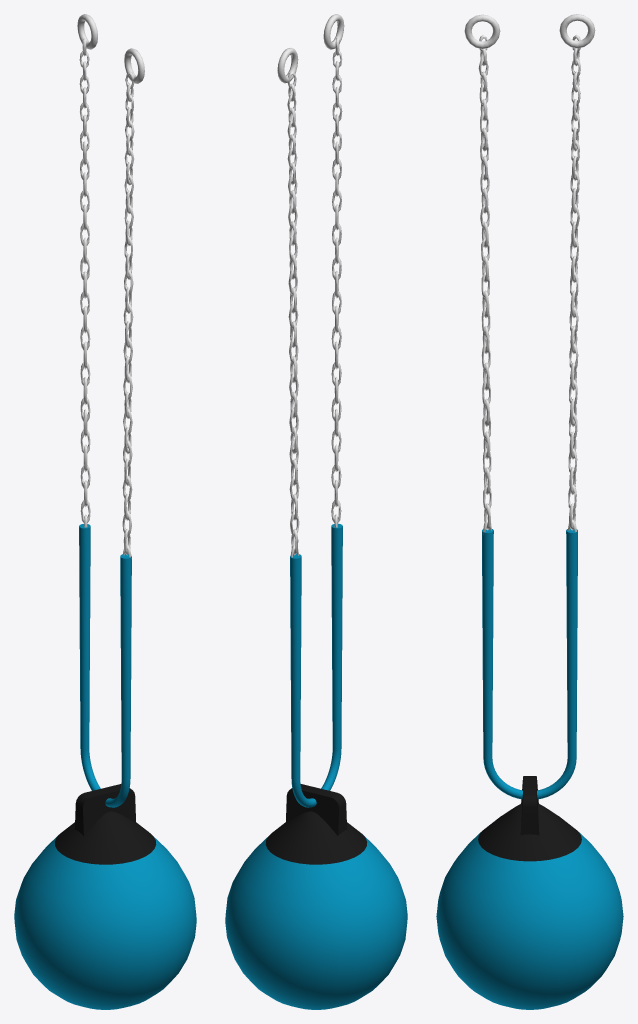
3 views of the same model, side by side, from view 1: azimuth 30°, elevation 25°; view 2: azimuth 150°, elevation 25°; view 3: azimuth 270°, elevation 25° (orthographic). The views are drawn at different scales.
Visible parts, largest first — view 1: Sphere002,_colorize_, Torus008001, Torus007001,_colorize_, Sphere002_1, Cube108001, Torus001; view 2: Sphere002,_colorize_, Torus008001, Torus007001,_colorize_, Sphere002_1, Cube108001, Torus001; view 3: Sphere002,_colorize_, Torus008001, Torus007001,_colorize_, Sphere002_1, Torus001, Cube108001.
Boxes of the visible parts, x1,y1,x2,y2 form: Sphere002,_colorize_: [14, 835, 196, 1009]; Torus008001: [79, 38, 134, 558]; Torus007001,_colorize_: [79, 524, 131, 807]; Sphere002_1: [54, 811, 156, 864]; Cube108001: [74, 784, 136, 835]; Torus001: [77, 14, 144, 83]; Sphere002,_colorize_: [225, 834, 407, 1009]; Torus008001: [287, 38, 342, 557]; Torus007001,_colorize_: [290, 523, 342, 807]; Sphere002_1: [265, 811, 367, 864]; Cube108001: [285, 784, 347, 835]; Torus001: [277, 14, 344, 83]; Sphere002,_colorize_: [436, 832, 623, 1009]; Torus008001: [478, 34, 580, 534]; Torus007001,_colorize_: [482, 529, 577, 799]; Sphere002_1: [478, 803, 581, 861]; Torus001: [464, 14, 595, 48]; Cube108001: [520, 776, 539, 835].
Bounding box in the file's own units: 0.3452 × 2.02 × 0.3452.
